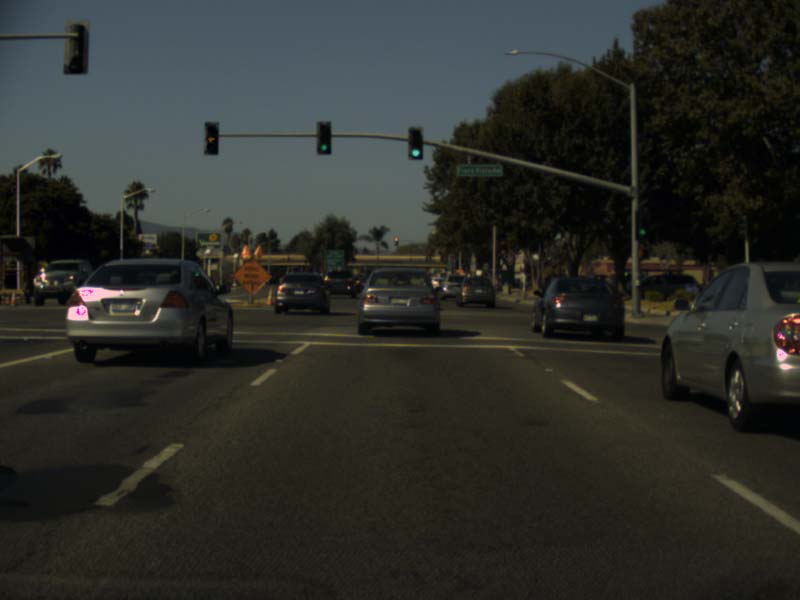Green: (407, 126, 422, 160), (636, 209, 648, 244), (317, 121, 329, 153)
Yellow: (202, 123, 218, 155)
